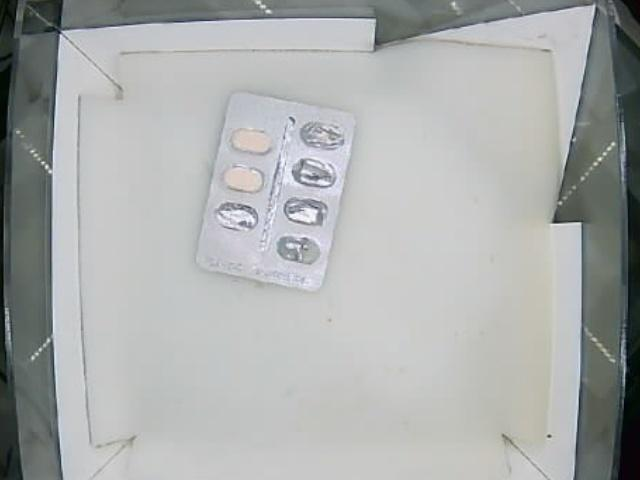Medicine: (202, 92, 358, 291)
